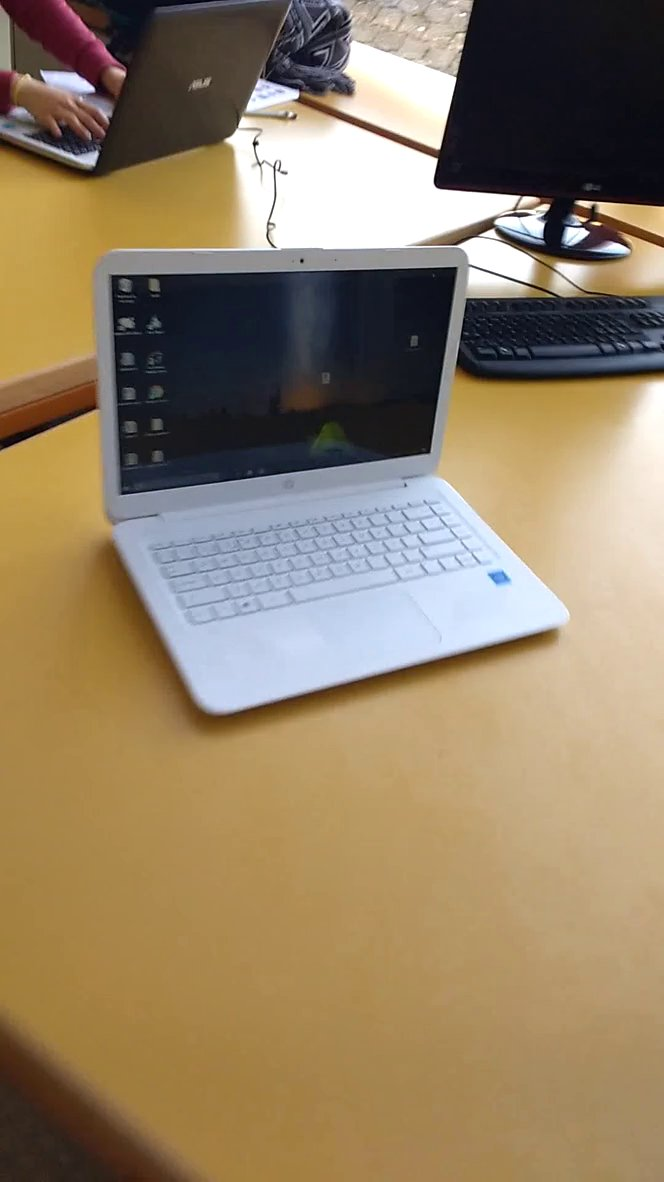laptop: (88, 222, 585, 733), (2, 2, 298, 183)
